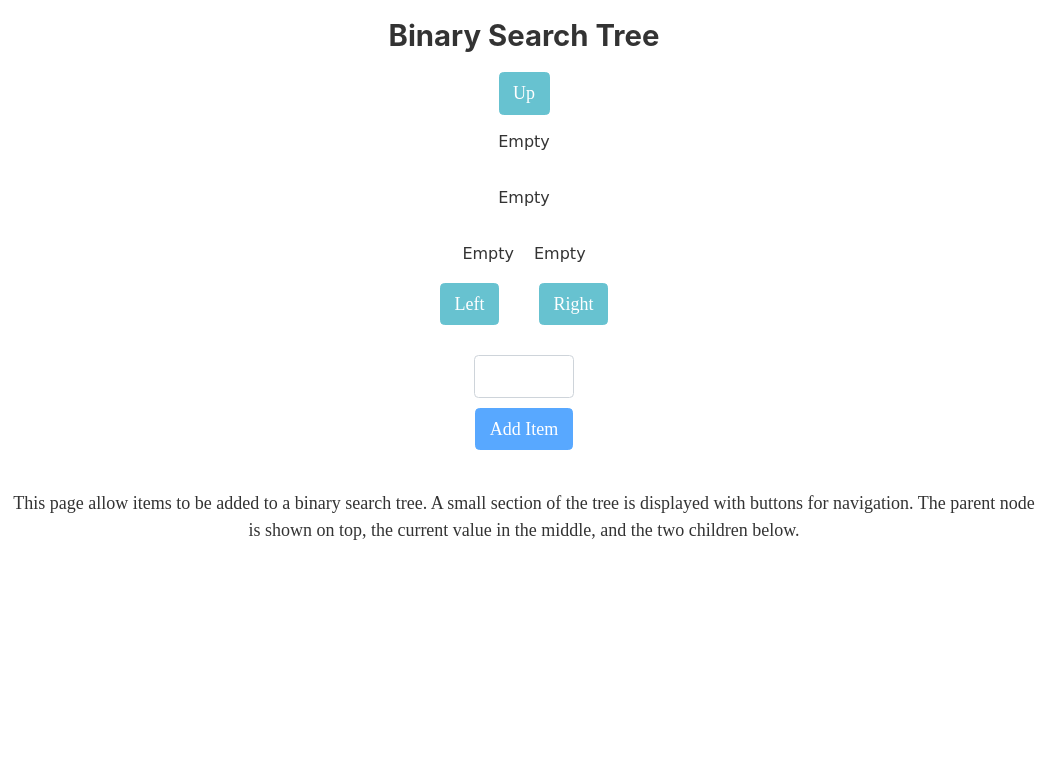
Test: BinarySearchTree › Add the number 5 and it shows up in the main display
Type "5" into the number field with class "numberInput" at (524, 377), box [474,356,574,398]
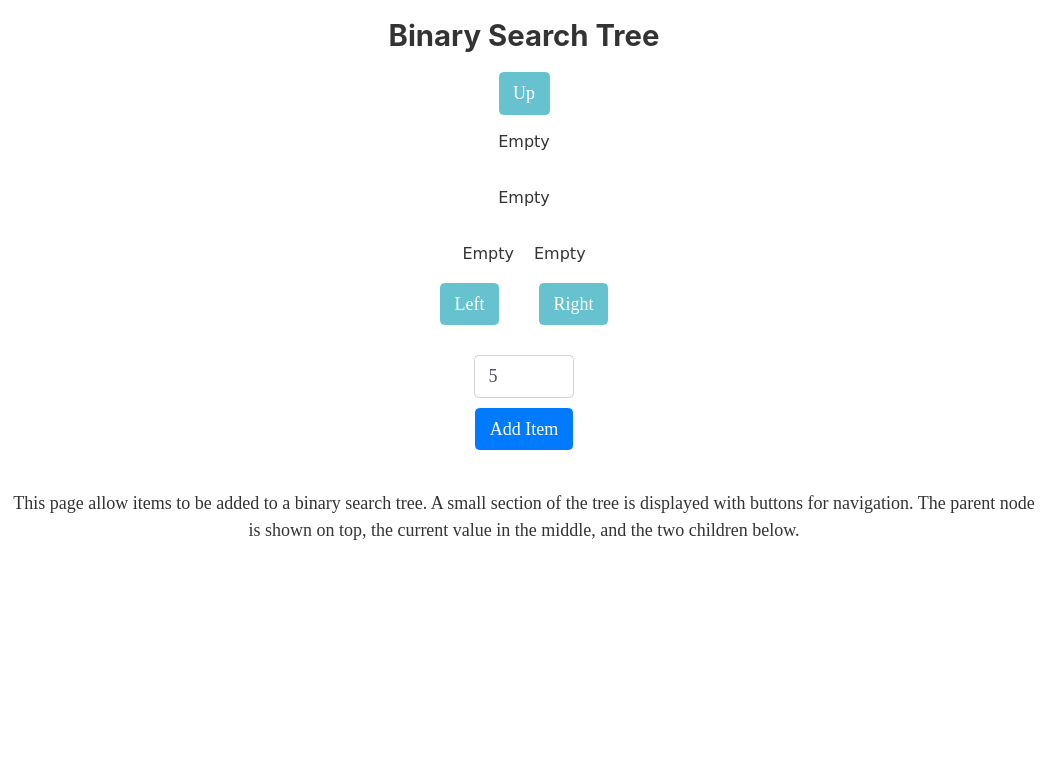
Click the button with id "addItemButton" at (524, 429), box [475,408,573,450]
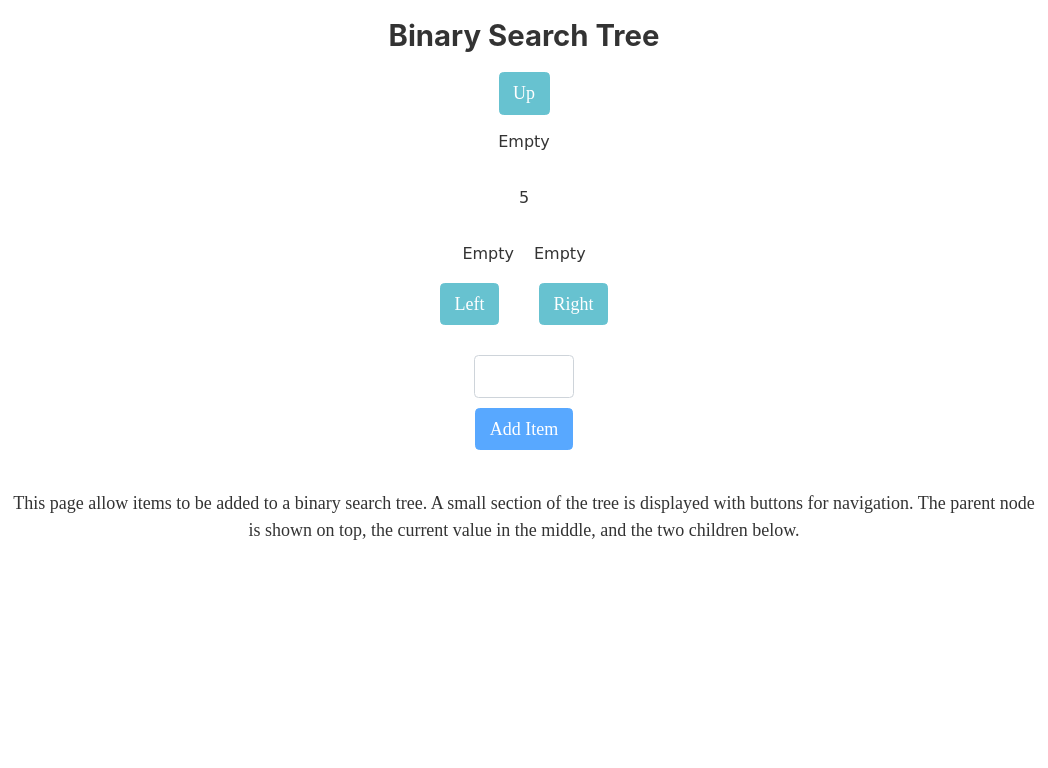
Expected: the text with id "mainDisplay" reads "5", [519,188,529,207]
